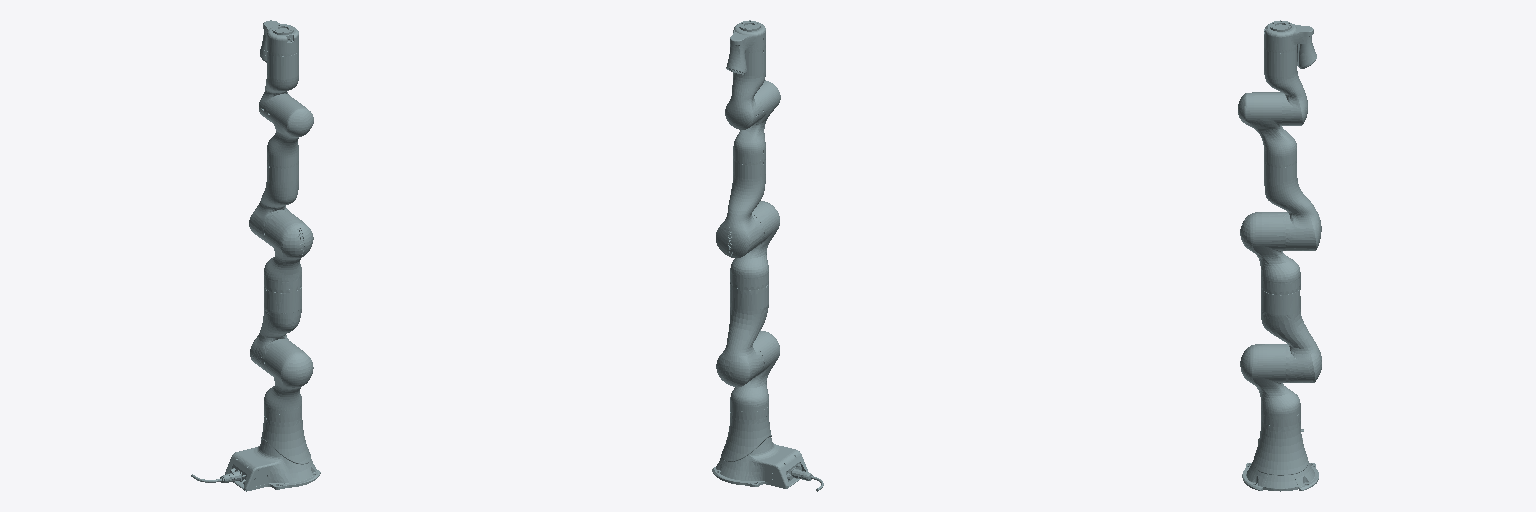
The robot description file, URDF, robot "model":
<?xml version="1.0" encoding="utf-8"?>
<!-- This URDF was automatically created by SolidWorks to URDF Exporter! Originally created by [author] ([email redacted]) 
     Commit Version: 1.6.0-4-g7f85cfe  Build Version: 1.6.7995.38578
     For more information, please see http://wiki.ros.org/sw_urdf_exporter -->
<robot
  name="model">
  
    <link name="world" />
  <joint name="world_joint" type="fixed">
    <origin
      xyz="0.0 0.0 0.0"
      rpy="0 0 0" />
    <parent
      link="world" />
    <child
      link="base_link" />
  </joint>
  
  <link
    name="base_link">
    <inertial>
      <origin
        xyz="-0.0190878309262091 4.43759555153935E-05 0.0624104253214578"
        rpy="0 0 0" />
      <mass
        value="3.14882590752787" />
      <inertia
        ixx="0.0118444734235513"
        ixy="2.92372188460978E-05"
        ixz="-0.00194355146872946"
        iyy="0.0164852449930982"
        iyz="5.29848886774371E-06"
        izz="0.0135747542054953" />
    </inertial>
    <visual>
      <origin
        xyz="0 0 0"
        rpy="0 0 0" />
      <geometry>
        <mesh
          filename="package://model/meshes/base_link.STL" />
      </geometry>
      <material
        name="">
        <color
          rgba="0.592156862745098 0.666666666666667 0.682352941176471 1" />
      </material>
    </visual>
    <collision>
      <origin
        xyz="0 0 0"
        rpy="0 0 0" />
      <geometry>
        <mesh
          filename="package://model/meshes/base_link.STL" />
      </geometry>
    </collision>
  </link>
  <link
    name="yao_Link">
    <inertial>
      <origin
        xyz="3.37363565146992E-06 -0.0252730128469273 0.113055713473566"
        rpy="0 0 0" />
      <mass
        value="1.80047507511529" />
      <inertia
        ixx="0.00956981868067036"
        ixy="-6.88777342468106E-07"
        ixz="-4.75414883477061E-07"
        iyy="0.00856427364623799"
        iyz="0.00195729101288257"
        izz="0.00330559998390123" />
    </inertial>
    <visual>
      <origin
        xyz="0 0 0"
        rpy="0 0 0" />
      <geometry>
        <mesh
          filename="package://model/meshes/yao_Link.STL" />
      </geometry>
      <material
        name="">
        <color
          rgba="0.592156862745098 0.666666666666667 0.682352941176471 1" />
      </material>
    </visual>
    <collision>
      <origin
        xyz="0 0 0"
        rpy="0 0 0" />
      <geometry>
        <mesh
          filename="package://model/meshes/yao_Link.STL" />
      </geometry>
    </collision>
  </link>
  <joint
    name="yao_joint"
    type="revolute">
    <origin
      xyz="0 0 0.175"
      rpy="0 0 0" />
    <parent
      link="base_link" />
    <child
      link="yao_Link" />
    <axis
      xyz="0 0 1" />
    <limit
      lower="-2.97"
      upper="2.97"
      effort="3000"
      velocity="3.14" />
  </joint>
  <link
    name="dabi_Link">
    <inertial>
      <origin
        xyz="-2.62996172071921E-06 -0.205457096495288 -0.00960602947091848"
        rpy="0 0 0" />
      <mass
        value="3.97962862227802" />
      <inertia
        ixx="0.0897031311100228"
        ixy="3.03145651979742E-06"
        ixz="6.90971089456608E-07"
        iyy="0.0104769184022239"
        iyz="-0.0192571895317577"
        izz="0.0843252851001566" />
    </inertial>
    <visual>
      <origin
        xyz="0 0 0"
        rpy="0 0 0" />
      <geometry>
        <mesh
          filename="package://model/meshes/dabi_Link.STL" />
      </geometry>
      <material
        name="">
        <color
          rgba="0.592156862745098 0.666666666666667 0.682352941176471 1" />
      </material>
    </visual>
    <collision>
      <origin
        xyz="0 0 0"
        rpy="0 0 0" />
      <geometry>
        <mesh
          filename="package://model/meshes/dabi_Link.STL" />
      </geometry>
    </collision>
  </link>
  <joint
    name="dabi_joint"
    type="revolute">
    <origin
      xyz="0 0.0135 0.1665"
      rpy="-1.5708 0 0" />
    <parent
      link="yao_Link" />
    <child
      link="dabi_Link" />
    <axis
      xyz="0 0 1" />
    <limit
      lower="-2.09"
      upper="2.09"
      effort="3000"
      velocity="2.62" />
  </joint>
  <link
    name="xiaobiqian_Link">
    <inertial>
      <origin
        xyz="3.46216158955519E-06 -0.0758134438559637 0.0192731488252177"
        rpy="0 0 0" />
      <mass
        value="1.79684366598554" />
      <inertia
        ixx="0.013063945488173"
        ixy="8.11307844865837E-07"
        ixz="2.11335786775296E-07"
        iyy="0.0033492465264039"
        iyz="-0.00346020627276854"
        izz="0.0117340229847005" />
    </inertial>
    <visual>
      <origin
        xyz="0 0 0"
        rpy="0 0 0" />
      <geometry>
        <mesh
          filename="package://model/meshes/xiaobiqian_Link.STL" />
      </geometry>
      <material
        name="">
        <color
          rgba="0.592156862745098 0.666666666666667 0.682352941176471 1" />
      </material>
    </visual>
    <collision>
      <origin
        xyz="0 0 0"
        rpy="0 0 0" />
      <geometry>
        <mesh
          filename="package://model/meshes/xiaobiqian_Link.STL" />
      </geometry>
    </collision>
  </link>
  <joint
    name="xiaobiqian_joint"
    type="revolute">
    <origin
      xyz="0 -0.394 0"
      rpy="0 0 0" />
    <parent
      link="dabi_Link" />
    <child
      link="xiaobiqian_Link" />
    <axis
      xyz="0 0 1" />
    <limit
      lower="-2.0944"
      upper="2.0944"
      effort="3000"
      velocity="3.14" />
  </joint>
  <link
    name="xiaobihou_Link">
    <inertial>
      <origin
        xyz="1.21714896606732E-05 -0.0312761696235735 0.110299392490287"
        rpy="0 0 0" />
      <mass
        value="1.29581282440583" />
      <inertia
        ixx="0.00598551933150687"
        ixy="-4.76354996951821E-07"
        ixz="5.45716206020315E-07"
        iyy="0.00489832818590639"
        iyz="0.00152655463456657"
        izz="0.00226748492444237" />
    </inertial>
    <visual>
      <origin
        xyz="0 0 0"
        rpy="0 0 0" />
      <geometry>
        <mesh
          filename="package://model/meshes/xiaobihou_Link.STL" />
      </geometry>
      <material
        name="">
        <color
          rgba="0.592156862745098 0.666666666666667 0.682352941176471 1" />
      </material>
    </visual>
    <collision>
      <origin
        xyz="0 0 0"
        rpy="0 0 0" />
      <geometry>
        <mesh
          filename="package://model/meshes/xiaobihou_Link.STL" />
      </geometry>
    </collision>
  </link>
  <joint
    name="xiaobihou_joint"
    type="revolute">
    <origin
      xyz="0 -0.21 -0.0135"
      rpy="1.5708 0 0" />
    <parent
      link="xiaobiqian_Link" />
    <child
      link="xiaobihou_Link" />
    <axis
      xyz="0 0 1" />
    <limit
      lower="-2.97"
      upper="2.97"
      effort="3000"
      velocity="3.93" />
  </joint>
  <link
    name="shouwan_Link">
    <inertial>
      <origin
        xyz="1.28250601622599E-05 -0.0842939753328475 0.0110292015780438"
        rpy="0 0 0" />
      <mass
        value="1.22513751471334" />
      <inertia
        ixx="0.00628411383835426"
        ixy="-3.44225627959499E-07"
        ixz="-1.12226946575813E-07"
        iyy="0.0014649278641654"
        iyz="-0.0012841897662462"
        izz="0.00598580635862483" />
    </inertial>
    <visual>
      <origin
        xyz="0 0 0"
        rpy="0 0 0" />
      <geometry>
        <mesh
          filename="package://model/meshes/shouwan_Link.STL" />
      </geometry>
      <material
        name="">
        <color
          rgba="0.592156862745098 0.666666666666667 0.682352941176471 1" />
      </material>
    </visual>
    <collision>
      <origin
        xyz="0 0 0"
        rpy="0 0 0" />
      <geometry>
        <mesh
          filename="package://model/meshes/shouwan_Link.STL" />
      </geometry>
    </collision>
  </link>
  <joint
    name="shouwan_joint"
    type="revolute">
    <origin
      xyz="0 0.004 0.156"
      rpy="-1.5708 0 0" />
    <parent
      link="xiaobihou_Link" />
    <child
      link="shouwan_Link" />
    <axis
      xyz="0 0 1" />
    <limit
      lower="-2.09"
      upper="2.09"
      effort="3000"
      velocity="3.93" />
  </joint>
  <link
    name="shuchu_Link">
    <inertial>
      <origin
        xyz="4.74052273747548E-05 0.0230629614254657 0.0200433803651805"
        rpy="0 0 0" />
      <mass
        value="0.542737889541383" />
      <inertia
        ixx="0.00116638936092843"
        ixy="-2.23897335387667E-07"
        ixz="-4.21045040413773E-07"
        iyy="0.000638413639370755"
        iyz="0.000282359820734026"
        izz="0.000951961053841569" />
    </inertial>
    <visual>
      <origin
        xyz="0 0 0"
        rpy="0 0 0" />
      <geometry>
        <mesh
          filename="package://model/meshes/shuchu_Link.STL" />
      </geometry>
      <material
        name="">
        <color
          rgba="0.592156862745098 0.666666666666667 0.682352941176471 1" />
      </material>
    </visual>
    <collision>
      <origin
        xyz="0 0 0"
        rpy="0 0 0" />
      <geometry>
        <mesh
          filename="package://model/meshes/shuchu_Link.STL" />
      </geometry>
    </collision>
  </link>
  <joint
    name="shuchu_joint"
    type="revolute">
    <origin
      xyz="0 -0.1855 -0.00412"
      rpy="1.5708 0 0" />
    <parent
      link="shouwan_Link" />
    <child
      link="shuchu_Link" />
    <axis
      xyz="0 0 1" />
    <limit
      lower="-6.28"
      upper="6.28"
      effort="3000"
      velocity="3.93" />
  </joint>
  <link
    name="ee_Link">
    <collision>
      <origin
        xyz="-0.01 0 0"
        rpy="0 0 0" />
      <geometry>
        <box
          size="0.01 0.01 0.01" />
      </geometry>
    </collision>
  </link>
  
  <joint name="ee_joint" type="fixed">
    <origin
      xyz="0 0.1855 0"
      rpy="-1.5708 0 0" />
    <parent
      link="shuchu_Link" />
    <child
      link="ee_Link" />
  </joint>
  
 <link name="tool0"/>
  <joint name="shuchu_link-tool0_fixed_joint" type="fixed">
    <origin rpy="0 0 0" xyz="0 0 0.00648"/>
    <parent link="shuchu_Link"/>
    <child link="tool0"/>
  </joint>
</robot>

--- Facts derived from the render (not from the file) ---
Views: 3 orthographic renders of the robot side by side, from view 1: azimuth 30°, elevation 25°; view 2: azimuth 150°, elevation 25°; view 3: azimuth 270°, elevation 25°.
Robot: model — 10 links, 9 joints (6 revolute, 3 fixed); root link world; default pose: every joint at zero.
Links seen in each view (by area): view 1: dabi_Link, base_link, yao_Link, xiaobihou_Link, xiaobiqian_Link, shouwan_Link, shuchu_Link; view 2: dabi_Link, base_link, xiaobiqian_Link, shouwan_Link, yao_Link, xiaobihou_Link, shuchu_Link; view 3: dabi_Link, base_link, yao_Link, xiaobiqian_Link, xiaobihou_Link, shouwan_Link, shuchu_Link.
Link boxes in pixels (bbox=[...]): dabi_Link: bbox=[250, 211, 313, 372]; base_link: bbox=[191, 417, 320, 491]; yao_Link: bbox=[264, 340, 313, 422]; xiaobihou_Link: bbox=[267, 95, 313, 168]; xiaobiqian_Link: bbox=[249, 164, 298, 242]; shouwan_Link: bbox=[259, 52, 298, 121]; shuchu_Link: bbox=[260, 20, 298, 62]; dabi_Link: bbox=[716, 201, 779, 386]; base_link: bbox=[712, 413, 823, 491]; xiaobiqian_Link: bbox=[716, 159, 765, 257]; shouwan_Link: bbox=[725, 48, 765, 129]; yao_Link: bbox=[730, 330, 779, 419]; xiaobihou_Link: bbox=[733, 80, 780, 165]; shuchu_Link: bbox=[726, 20, 765, 74]; dabi_Link: bbox=[1240, 212, 1321, 382]; base_link: bbox=[1242, 420, 1318, 491]; yao_Link: bbox=[1240, 344, 1300, 426]; xiaobiqian_Link: bbox=[1264, 162, 1321, 250]; xiaobihou_Link: bbox=[1238, 92, 1296, 167]; shouwan_Link: bbox=[1264, 48, 1307, 125]; shuchu_Link: bbox=[1264, 20, 1316, 68].
Bounding box of the posed robot: 0.345 × 0.2291 × 1.35 m (x, y, z).
7 mesh visuals loaded from 7 distinct referenced files (7 binary STL).
